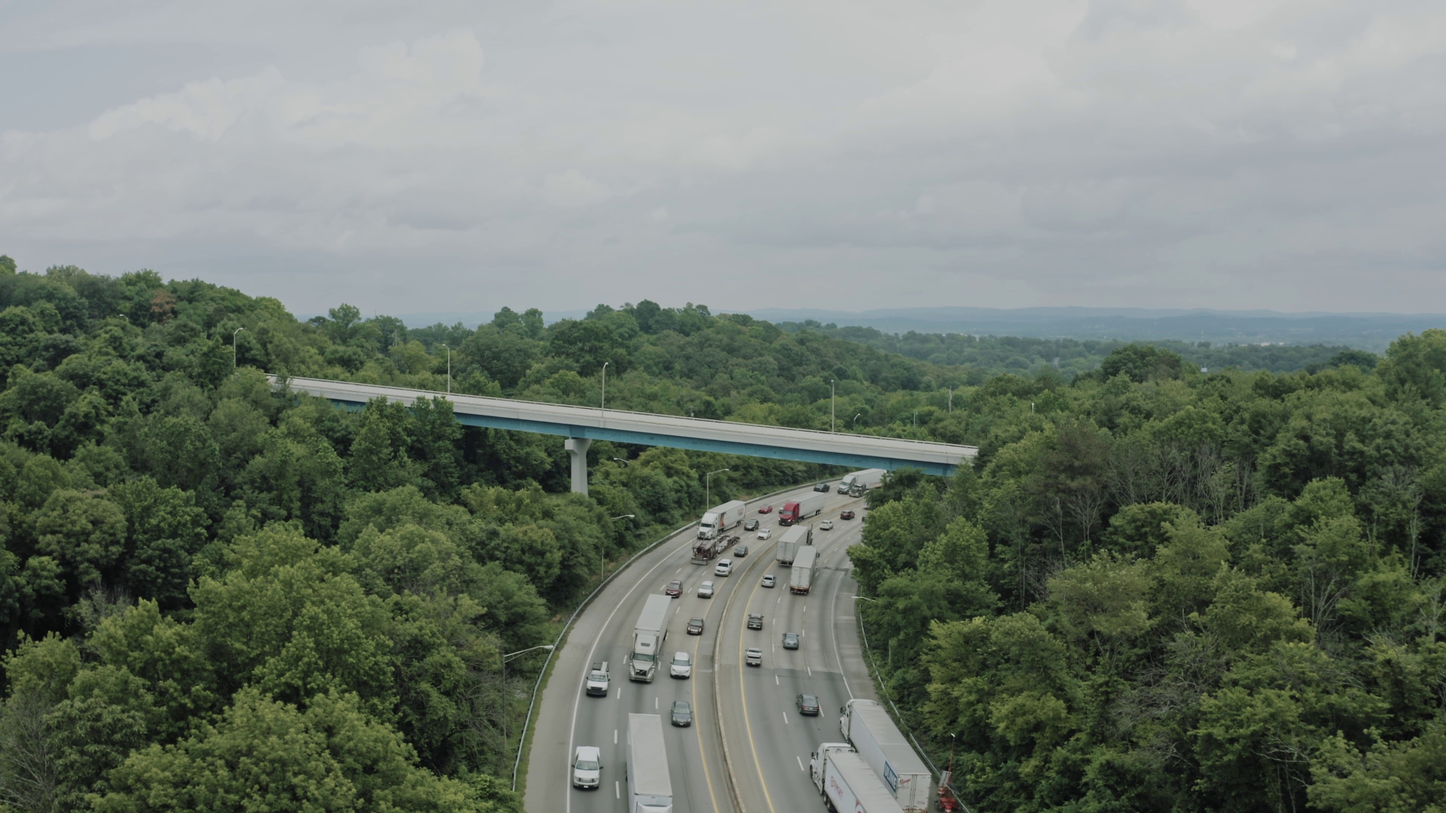Vehicle: (804, 739, 856, 795), (835, 694, 882, 736), (628, 633, 661, 683), (571, 746, 603, 790), (586, 661, 611, 697), (690, 538, 719, 566), (629, 798, 678, 813), (696, 512, 721, 540), (778, 500, 802, 526), (670, 700, 693, 727), (670, 651, 692, 679), (795, 694, 820, 716), (799, 524, 817, 551), (837, 474, 855, 496), (714, 558, 733, 577), (745, 647, 762, 667), (665, 580, 683, 598), (687, 617, 705, 635), (697, 580, 714, 598), (782, 632, 799, 650), (747, 613, 764, 630), (849, 483, 866, 498), (761, 574, 777, 588), (744, 519, 759, 531), (757, 528, 771, 540), (734, 545, 748, 557), (819, 520, 834, 531), (840, 509, 855, 520), (813, 483, 830, 492), (758, 504, 773, 514)
